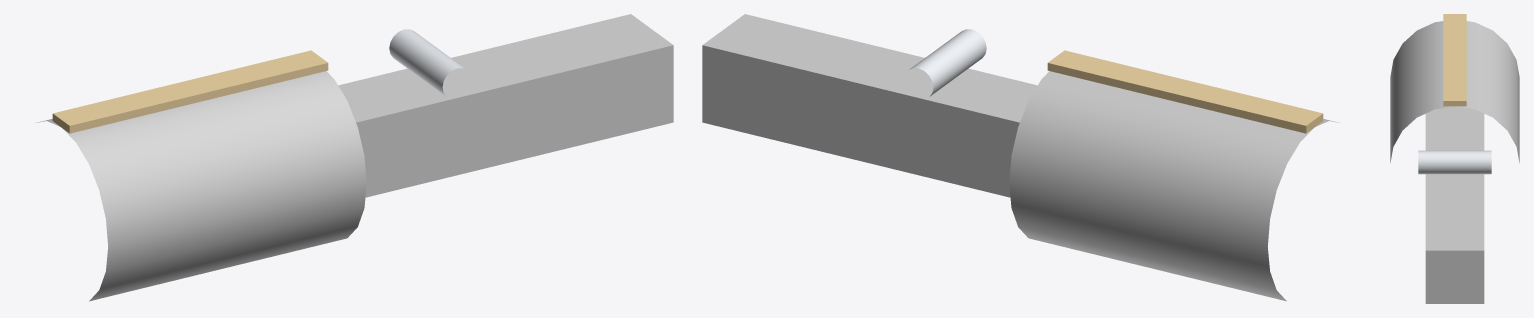
File: split_tensile_flexural_concrete_strength.glb
3 renders of one model, left to right at view 1: azimuth 30°, elevation 25°; view 2: azimuth 150°, elevation 25°; view 3: azimuth 270°, elevation 25°, orthographic. The views are drawn at different scales.
Parts seen in each view (by area): view 1: ConcreteCylinder150x300mm, ConcreteFlexurePrismBeam, PlywoodBearingPackingStrips, TwoPointFlexuralLoadingRollers; view 2: ConcreteCylinder150x300mm, ConcreteFlexurePrismBeam, PlywoodBearingPackingStrips, TwoPointFlexuralLoadingRollers; view 3: ConcreteFlexurePrismBeam, ConcreteCylinder150x300mm, PlywoodBearingPackingStrips, TwoPointFlexuralLoadingRollers.
Boxes of the visible parts, x1,y1,x2,y2 form: ConcreteCylinder150x300mm: (36, 71, 366, 301); ConcreteFlexurePrismBeam: (338, 14, 673, 197); PlywoodBearingPackingStrips: (52, 50, 328, 133); TwoPointFlexuralLoadingRollers: (389, 29, 466, 96); ConcreteCylinder150x300mm: (1009, 71, 1339, 301); ConcreteFlexurePrismBeam: (702, 14, 1037, 197); PlywoodBearingPackingStrips: (1047, 50, 1323, 133); TwoPointFlexuralLoadingRollers: (909, 29, 986, 96); ConcreteFlexurePrismBeam: (1425, 106, 1484, 303); ConcreteCylinder150x300mm: (1390, 21, 1519, 162); PlywoodBearingPackingStrips: (1443, 14, 1466, 106); TwoPointFlexuralLoadingRollers: (1418, 150, 1491, 174).
Size of the model in its own units: 1.6 by 0.46 by 0.44.
